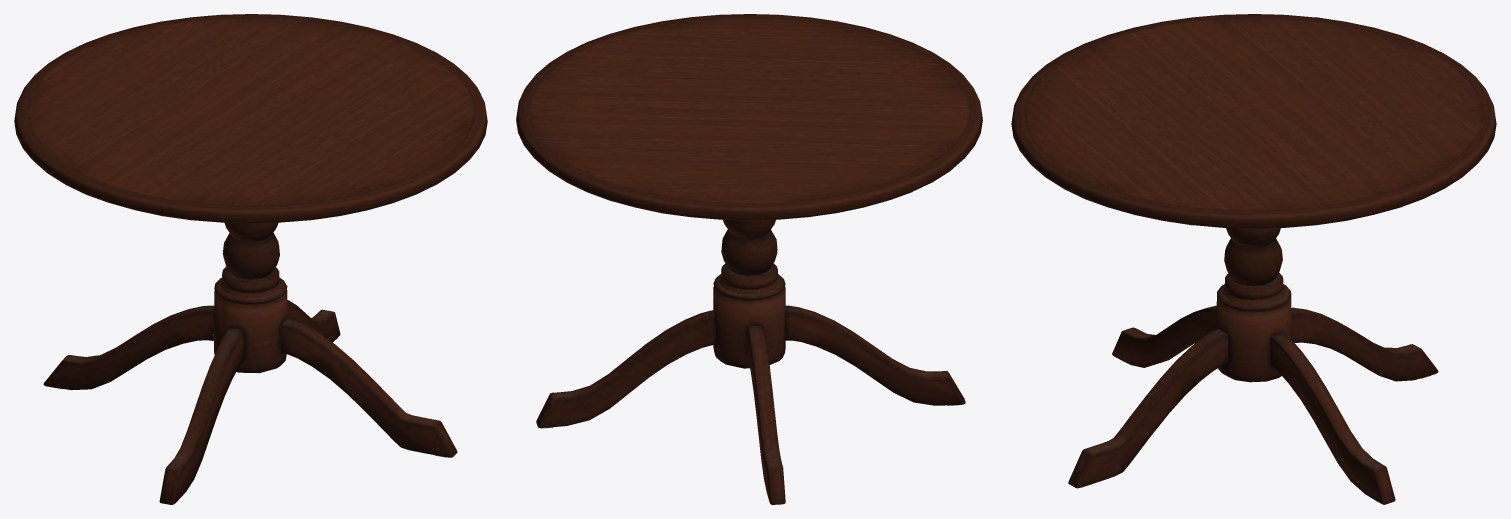
The model's file is round_wooden_table_01.glb.
The picture shows the model from 3 angles, left to right: view 1: azimuth 30°, elevation 25°; view 2: azimuth 150°, elevation 25°; view 3: azimuth 270°, elevation 25°; orthographic projection. The views are drawn at different scales.
Parts seen in each view (by area): view 1: c11_wood, c02_wood, c10_wood, c07_wood, c04_wood, c09_wood; view 2: c11_wood, c02_wood, c03_wood, c08_wood, c10_wood, c04_wood, c09_wood, c05_wood; view 3: c11_wood, c02_wood, c09_wood, c10_wood, c06_wood, c05_wood, c07_wood.
Boxes of the visible parts, box(x1,y1,x2,y2) form: c11_wood: box(14, 14, 477, 206); c02_wood: box(46, 222, 287, 504); c10_wood: box(22, 87, 487, 223); c07_wood: box(281, 318, 457, 457); c04_wood: box(43, 305, 214, 389); c09_wood: box(287, 300, 340, 342); c11_wood: box(516, 17, 969, 220); c02_wood: box(713, 219, 965, 504); c03_wood: box(785, 312, 964, 405); c08_wood: box(538, 316, 716, 427); c10_wood: box(586, 14, 982, 190); c04_wood: box(748, 325, 785, 504); c09_wood: box(536, 310, 715, 428); c05_wood: box(747, 327, 770, 503); c11_wood: box(1025, 17, 1496, 228); c02_wood: box(1112, 228, 1434, 382); c09_wood: box(1270, 332, 1395, 504); c10_wood: box(1011, 14, 1315, 225); c06_wood: box(1077, 334, 1228, 488); c05_wood: box(1291, 313, 1438, 381); c07_wood: box(1068, 329, 1226, 488).
Bounding box in the file's own units: 1.4 × 1 × 1.4.
1 material, 1 textured.
